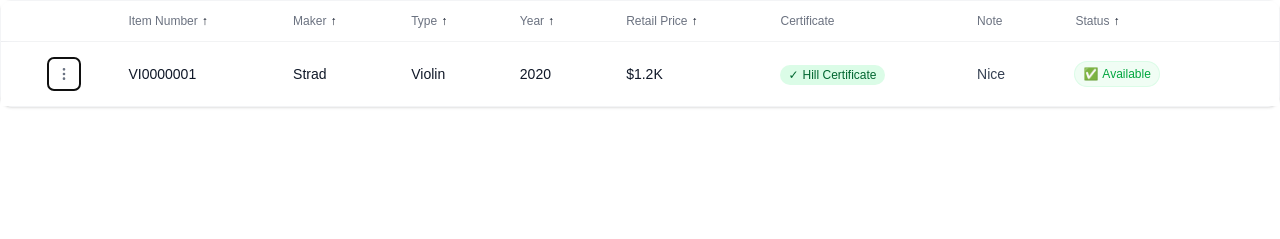
Test: ItemList › surfaces inline error and does not show Saved when update fails
What coordinates should you click on to do the following:
click the button named "More actions"
I would click on:
 (64, 74)
Its box is [48,58,80,90].
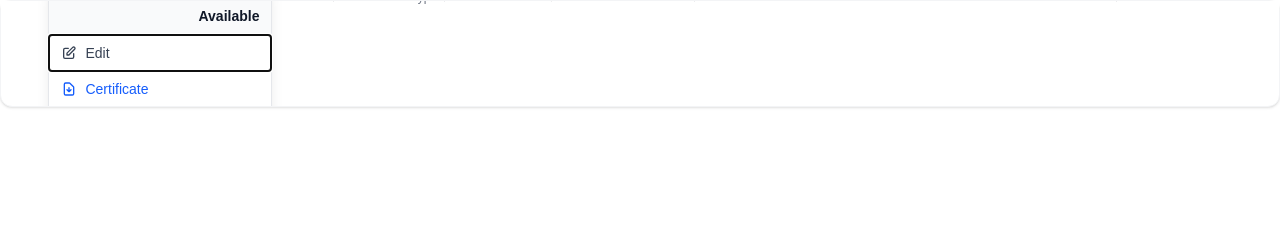
What coordinates should you click on to do the following:
click the menu item "Edit"
I would click on:
 (160, 53)
Its box is [49,35,271,71].
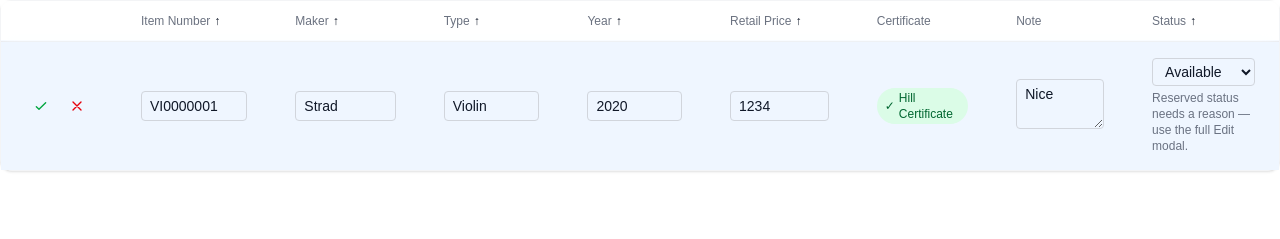
What coordinates should you click on to do the following:
click the button titled "Save changes"
I would click on:
 (41, 106)
Its box is [25,90,57,122].
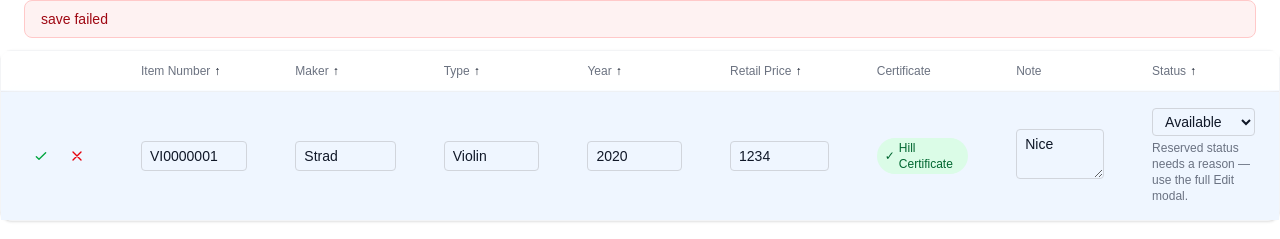
Expected: the message reads "save failed", [41,11,108,27]
